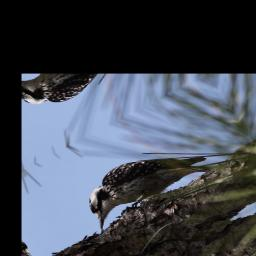Woodpecker: (66, 123, 223, 239)
